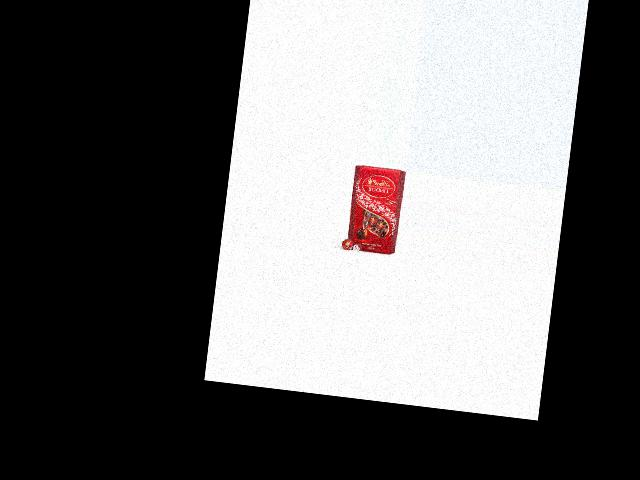chocolate: (340, 164, 404, 255)
